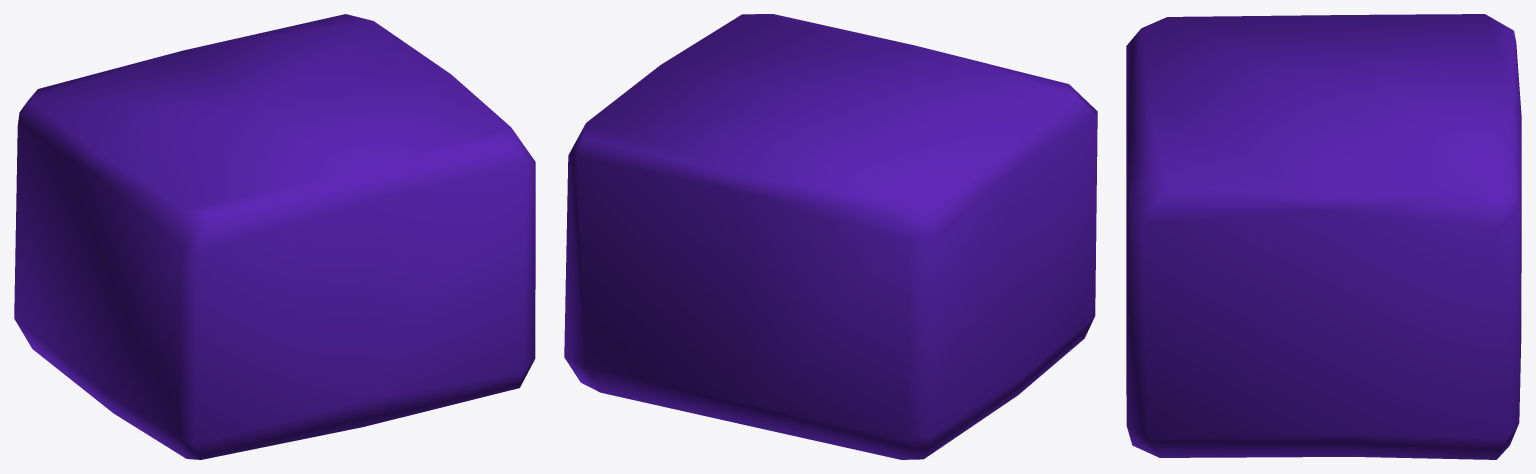
Rendered from block_01.FBX.
3 renders of one model, left to right at view 1: azimuth 30°, elevation 25°; view 2: azimuth 150°, elevation 25°; view 3: azimuth 270°, elevation 25°, orthographic. The views are drawn at different scales.
Visible parts, largest first — view 1: block_01; view 2: block_01; view 3: block_01.
Part boxes in pixels (x1,y1,x2,y2): block_01: [14, 14, 535, 459]; block_01: [564, 14, 1097, 459]; block_01: [1126, 14, 1521, 459].
Bounding box in the file's own units: 13.27 × 9.07 × 11.86.
